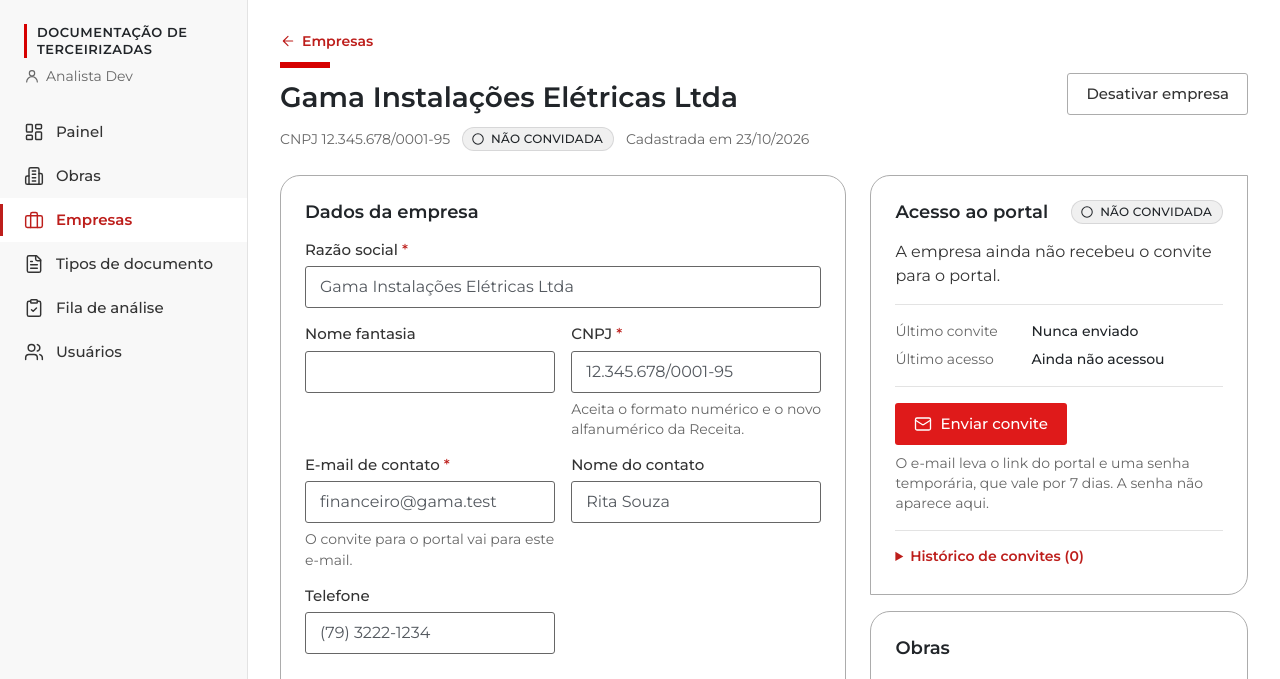
Test case: Detalhe da empresa — convite › enviar convite muda o selo para "Convidada" e mostra a confirmação
The width and height of the screenshot is (1280, 679).
Expected: the heading "Gama Instalações Elétricas Ltda" is shown, [280,80,738,114]
Expected: the text "Não convidada" next to "Acesso ao portal" is shown, [1100,204,1212,219]
Step 1. Click the button "Enviar convite" → (981, 424), box [895,403,1067,445]
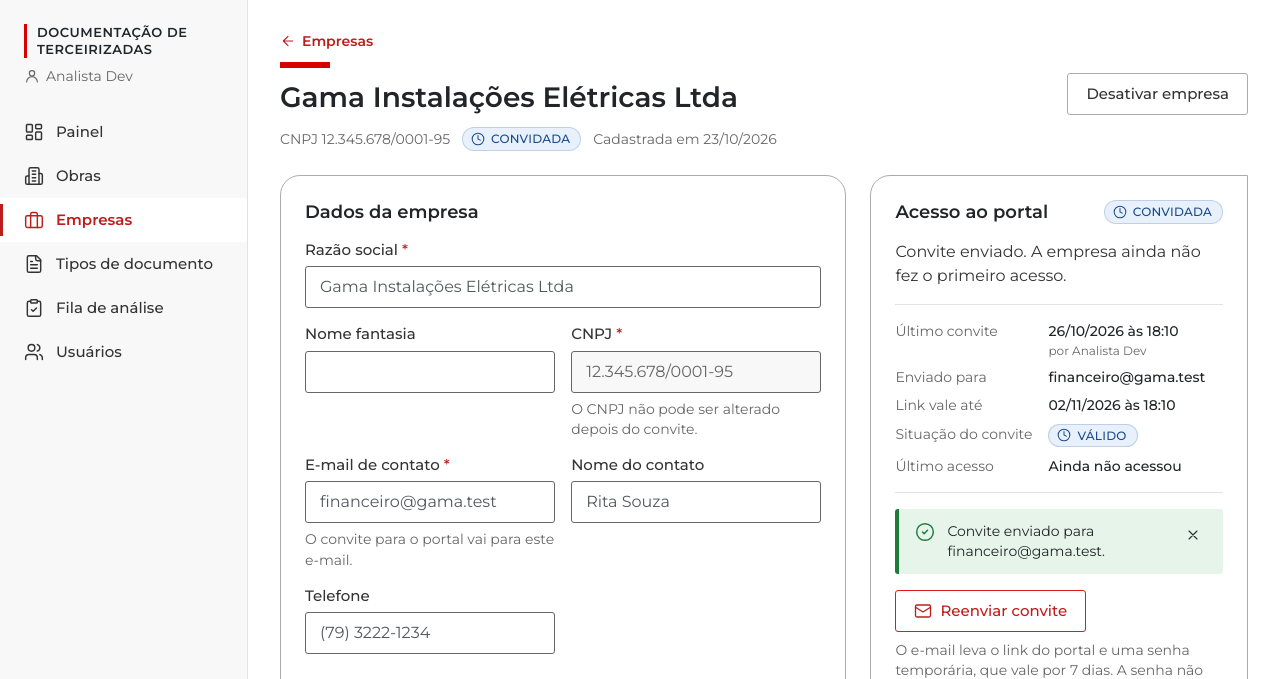
Expected: the text "Convidada" next to "Acesso ao portal" is shown, [1133,204,1212,219]
Now the text "Convite enviado para financeiro@gama.test." is shown, box [947,522,1105,560]
Now the button "Reenviar convite" is shown, box [895,590,1086,632]
